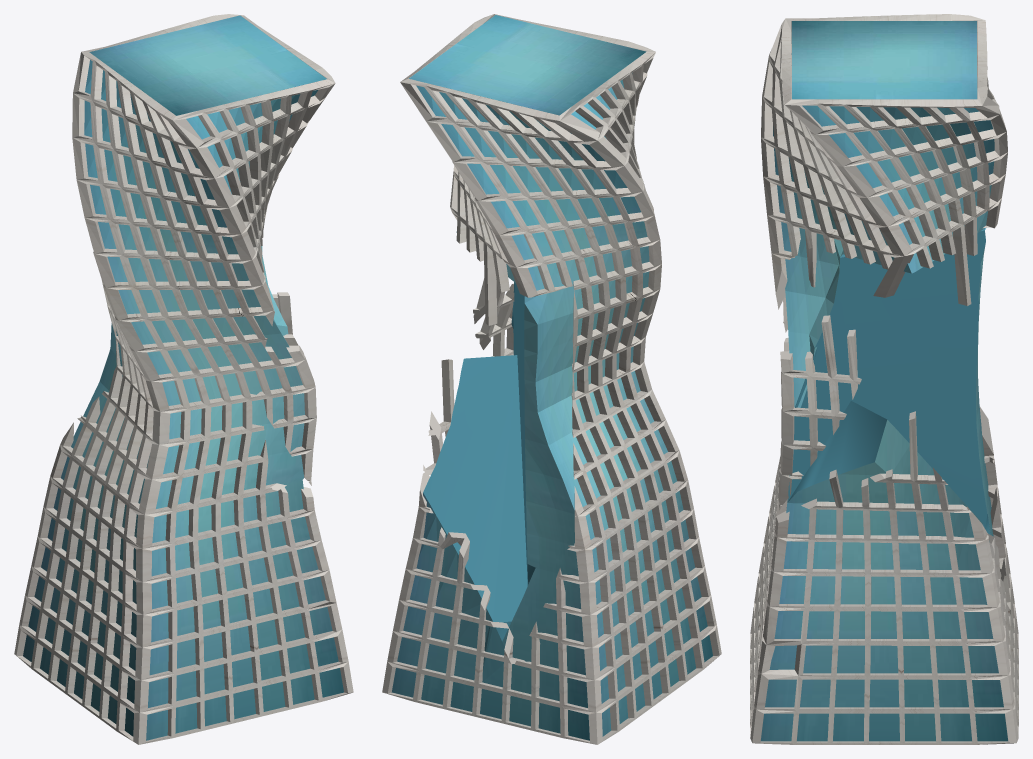
File: Edificio Roto 3.FBX
3 renders of one model, left to right at view 1: azimuth 30°, elevation 25°; view 2: azimuth 150°, elevation 25°; view 3: azimuth 270°, elevation 25°, orthographic. The views are drawn at different scales.
Parts seen in each view (by area): view 1: Box005, Box004; view 2: Box005, Box004; view 3: Box004, Box005.
Part boxes in pixels (left/top/right/bottom): Box005: left=14, top=14, right=353, bottom=744; Box004: left=23, top=15, right=343, bottom=740; Box005: left=382, top=14, right=721, bottom=744; Box004: left=391, top=15, right=712, bottom=740; Box004: left=761, top=21, right=1007, bottom=741; Box005: left=750, top=14, right=1018, bottom=744.
Size of the model in its own units: 1064 by 2813 by 1061.
